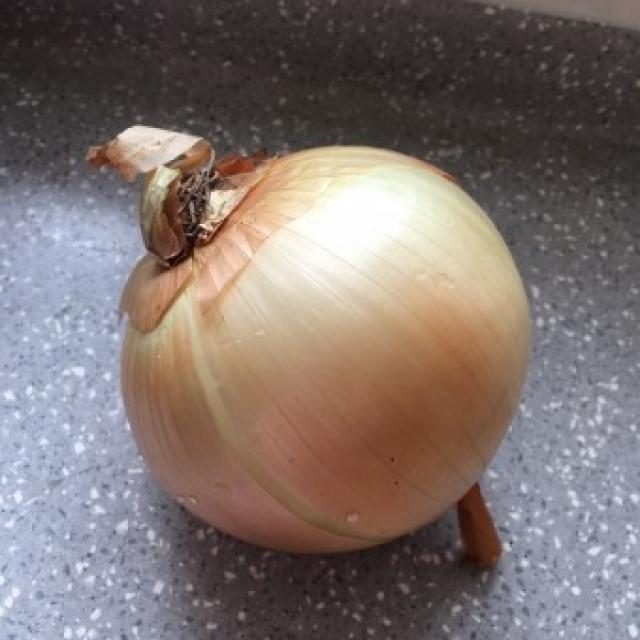onion: (85, 126, 570, 589)
